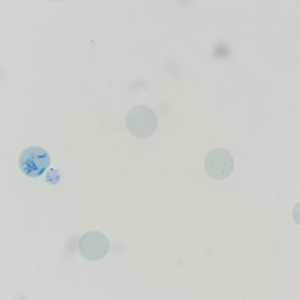aggregate reticulocyte: (16, 145, 53, 180)
erythrocyte: (123, 104, 160, 142), (76, 230, 112, 263)
punctate reticulocyte: (202, 146, 236, 182)
